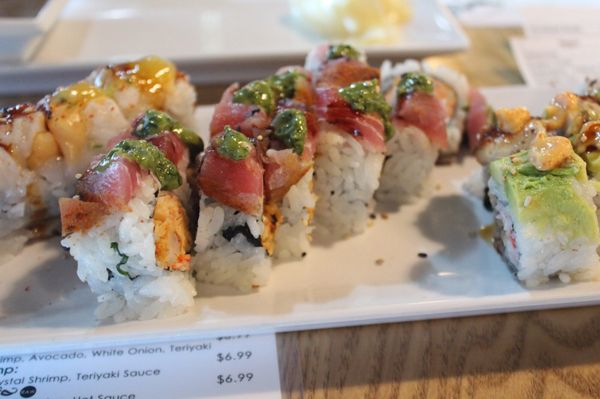curry: (214, 127, 254, 162)
